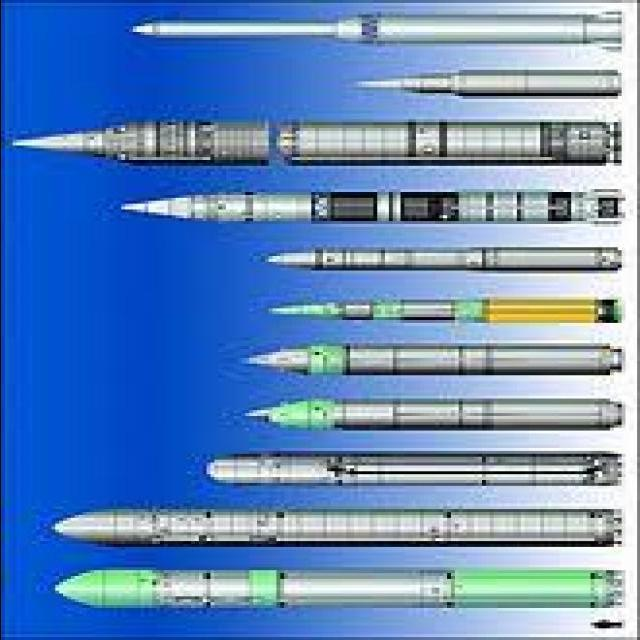missile: (28, 562, 626, 626), (0, 112, 626, 165), (39, 503, 621, 549), (117, 182, 630, 226), (198, 442, 621, 492), (118, 9, 630, 47), (317, 60, 633, 105), (263, 247, 629, 275)
